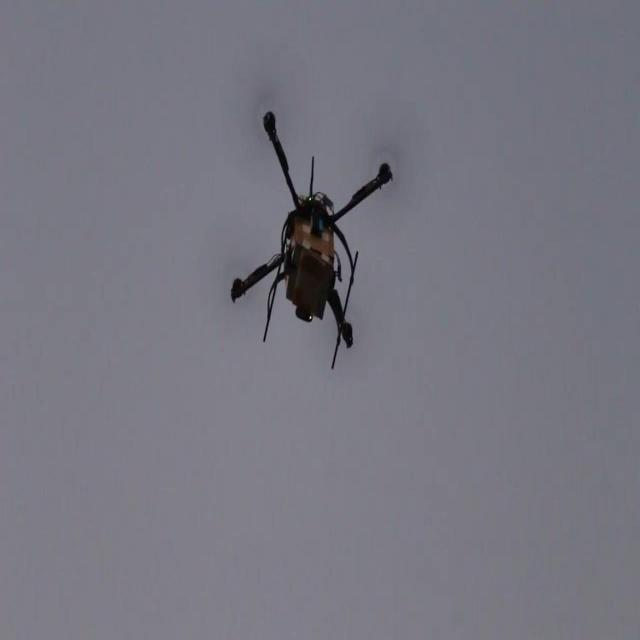UAV: (230, 110, 393, 372)
